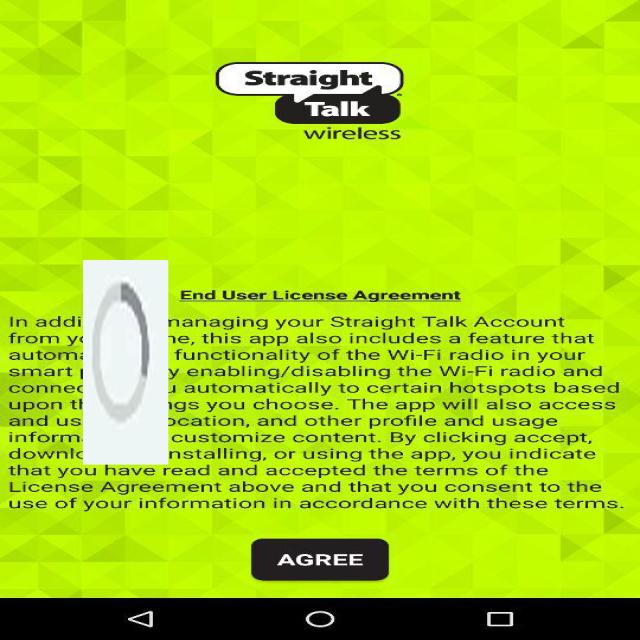misdirection: (83, 260, 168, 465)
